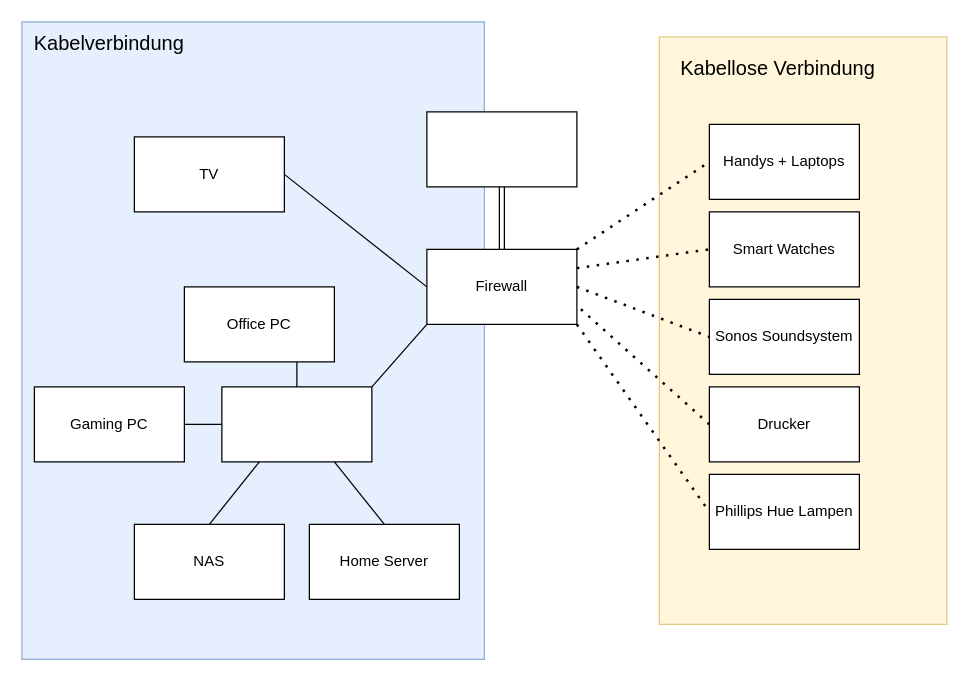
The diagram is 969 pixels wide and 681 high, and some of its shapes have lost their labels. Each missing label, with the box of its shape:
Router: (426, 111, 577, 187)
Switch: (221, 386, 372, 462)
